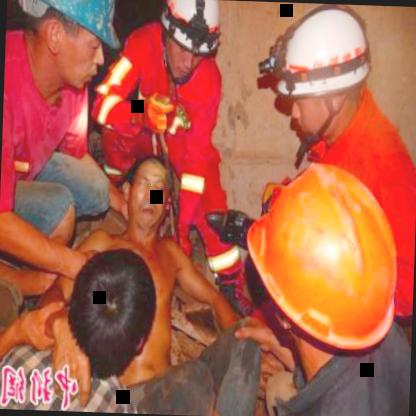head: (59, 244, 168, 379), (119, 155, 178, 237)
helmet: (220, 150, 416, 414), (274, 3, 374, 154), (3, 0, 125, 118), (156, 0, 221, 84)
